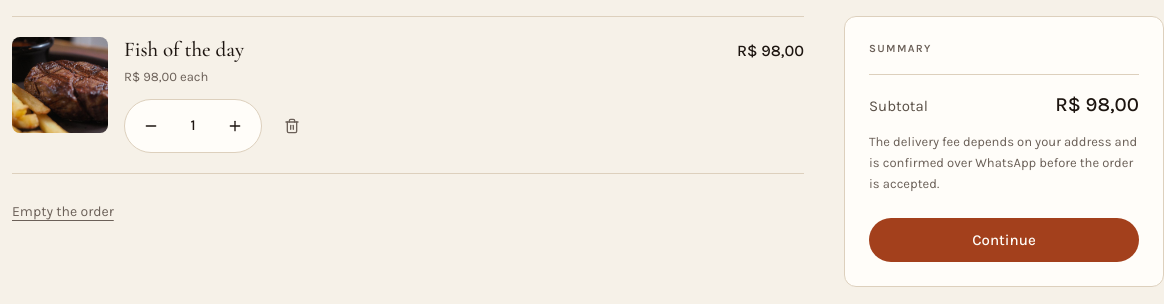
CartView › increases and decreases a quantity
Click the button named "one more fish of the day" at {"x": 235, "y": 126}, box x1=213 y1=104 x2=257 y2=148
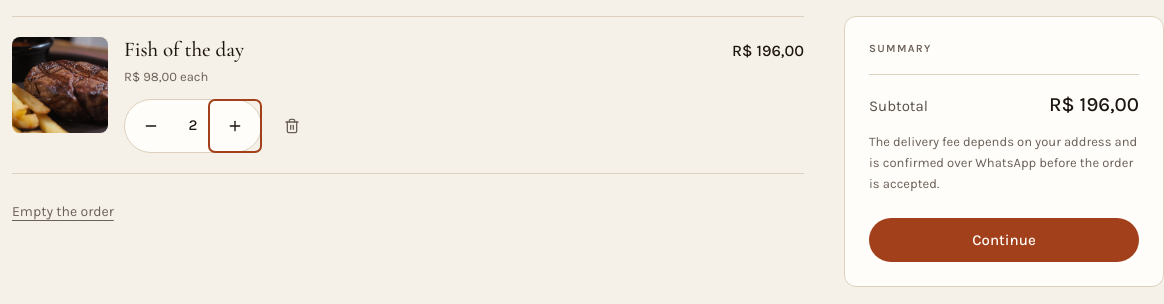
Check: the text "2" is shown, box x1=189 y1=116 x2=198 y2=134
Click the button named "one fewer fish of the day" at {"x": 151, "y": 126}, box x1=129 y1=104 x2=173 y2=148
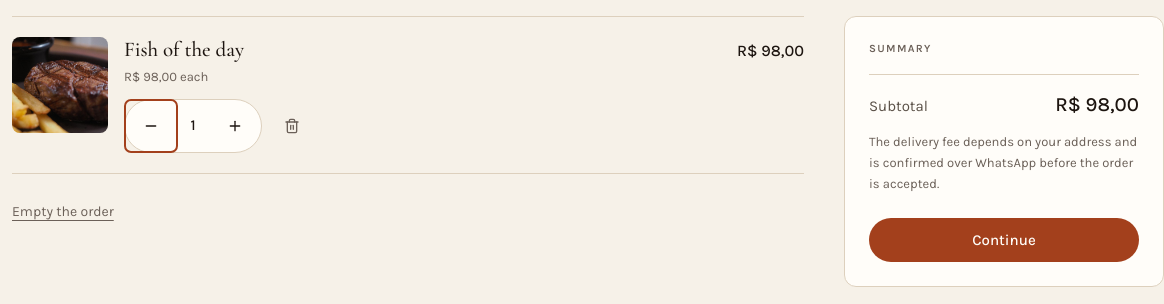
Check: the text "1" is shown, box x1=190 y1=116 x2=196 y2=134
